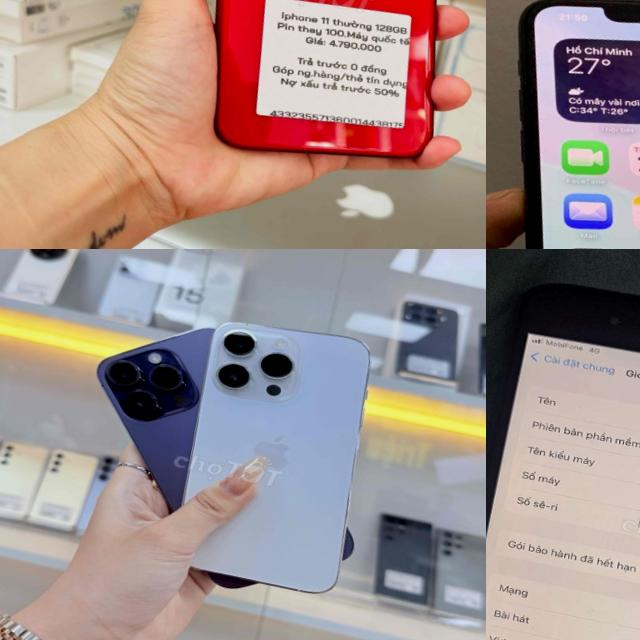gen_11: (143, 0, 486, 183), (486, 0, 640, 249)
gen_14: (160, 307, 394, 610)
gen_6: (486, 258, 640, 640)
